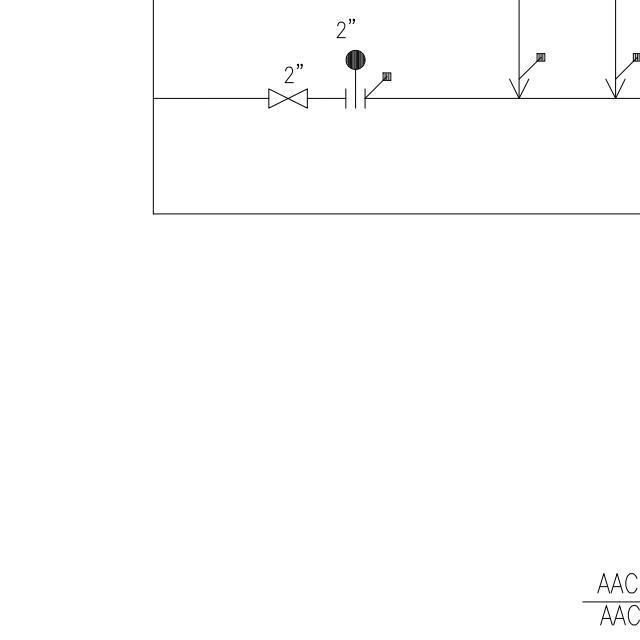GV: (263, 85, 312, 111)
